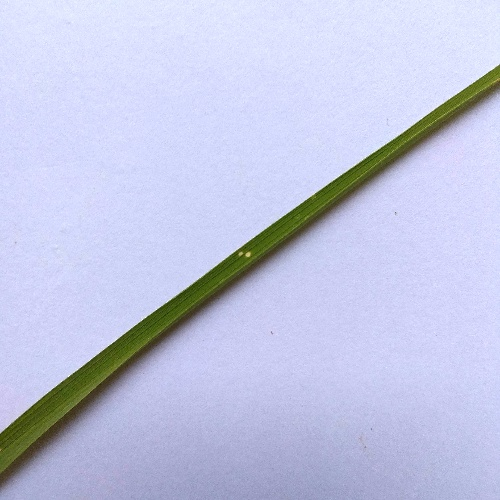Busuk Leher: (235, 246, 258, 263)
